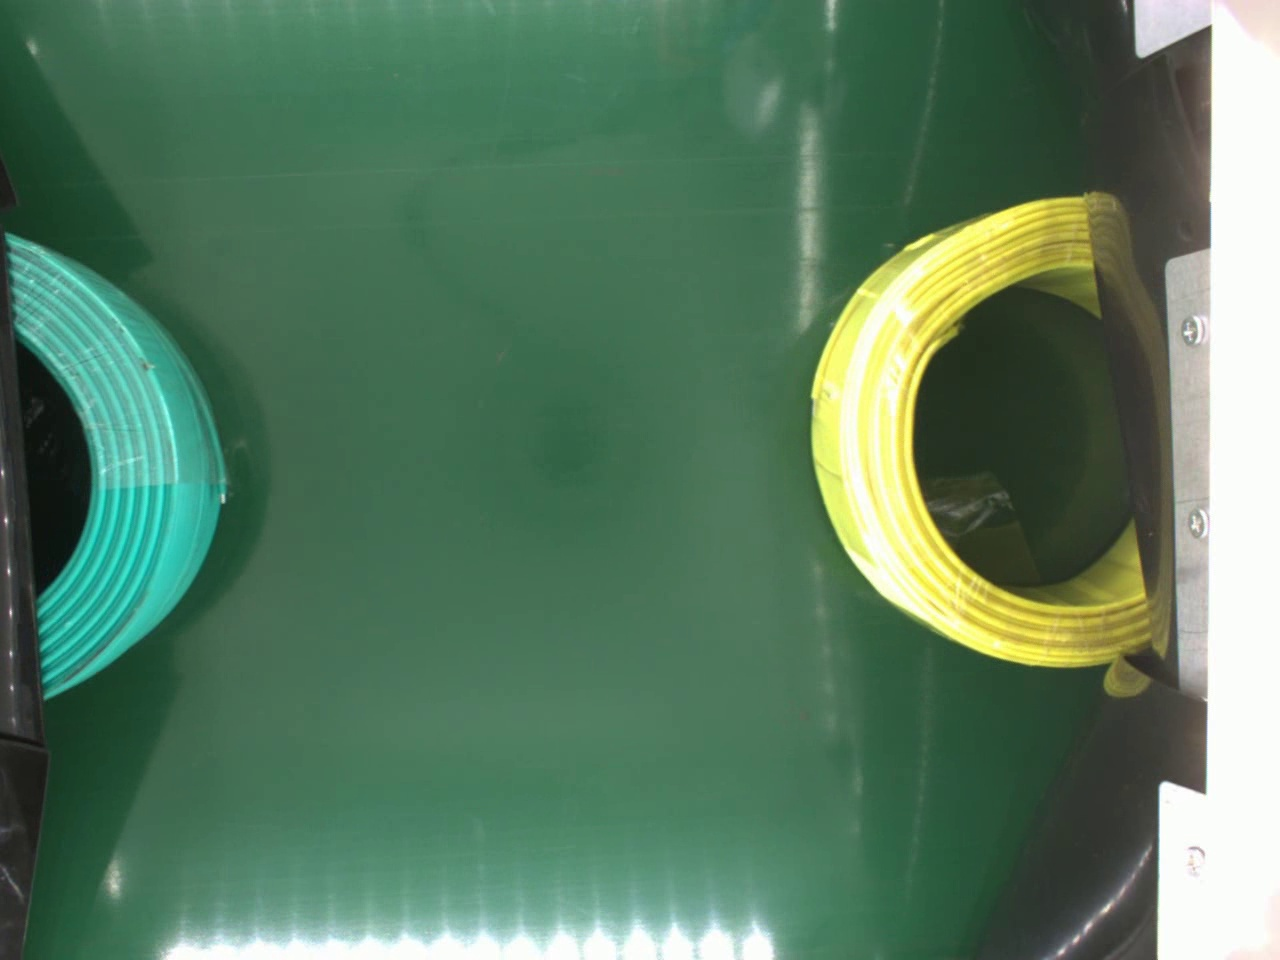green: (6, 224, 228, 707)
yellow: (808, 194, 1148, 671)
